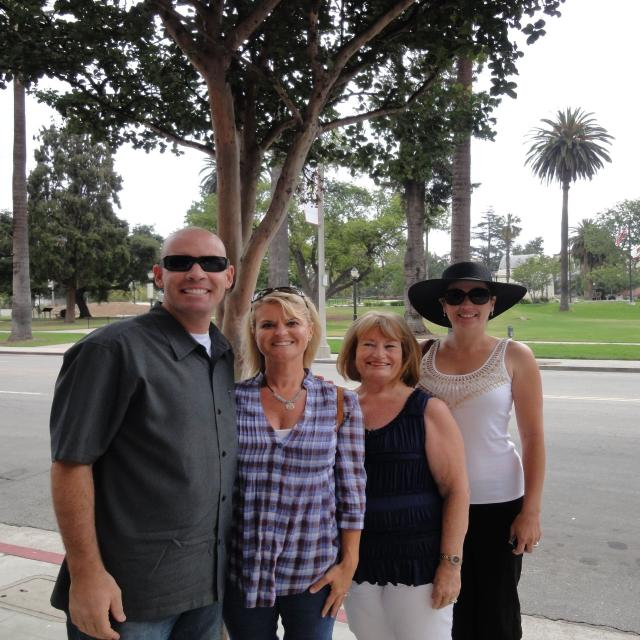body: (44, 221, 242, 640), (402, 259, 544, 639), (229, 282, 368, 640), (333, 308, 471, 640)
